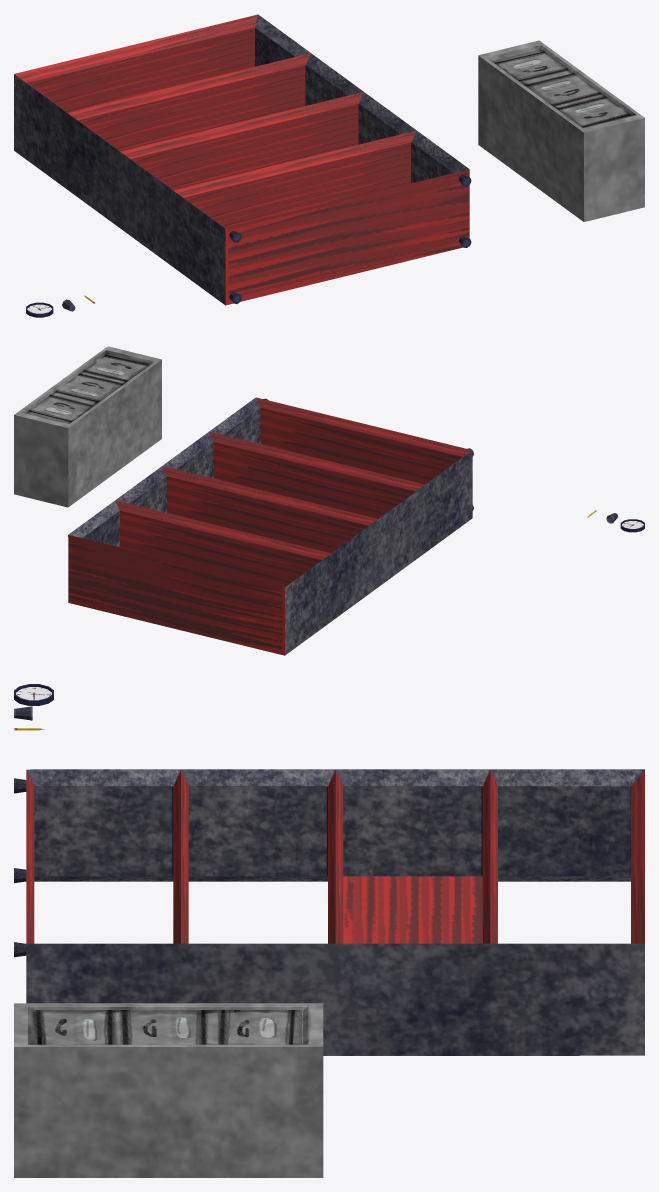
Rendered from LuizEduardoPinheiro_889688.fbx.
The picture shows the model from 3 angles, top to bottom: view 1: azimuth 30°, elevation 25°; view 2: azimuth 150°, elevation 25°; view 3: azimuth 270°, elevation 25°; orthographic projection. The views are drawn at different scales.
Visible parts, largest first — view 1: UnitStorage, CabinetOffice; view 2: UnitStorage, CabinetOffice; view 3: UnitStorage, CabinetOffice, ClockWall.
Part boxes in pixels (<box>): UnitStorage: <box>14,14,471,305</box>; CabinetOffice: <box>478,40,644,221</box>; UnitStorage: <box>68,397,473,655</box>; CabinetOffice: <box>14,346,161,507</box>; UnitStorage: <box>14,769,644,1055</box>; CabinetOffice: <box>14,1003,323,1177</box>; ClockWall: <box>14,684,53,705</box>.
Bounding box in the file's own units: 500 × 70 × 306.
